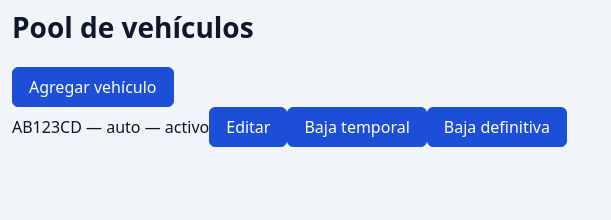
it: VehiculosAdminPage › muestra un mensaje de éxito tras una baja temporal exitosa
The image size is (611, 220).
Check: the text "AB123CD — auto — activo" is shown, box [12, 116, 209, 138]
What coordinates should you click on to do the following:
click the button "Baja temporal"
I would click on:
 (357, 126)
Its box is [288, 106, 427, 146].
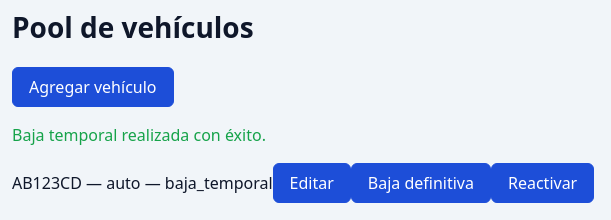
Check: the message shows "éxito", box [12, 124, 266, 146]
